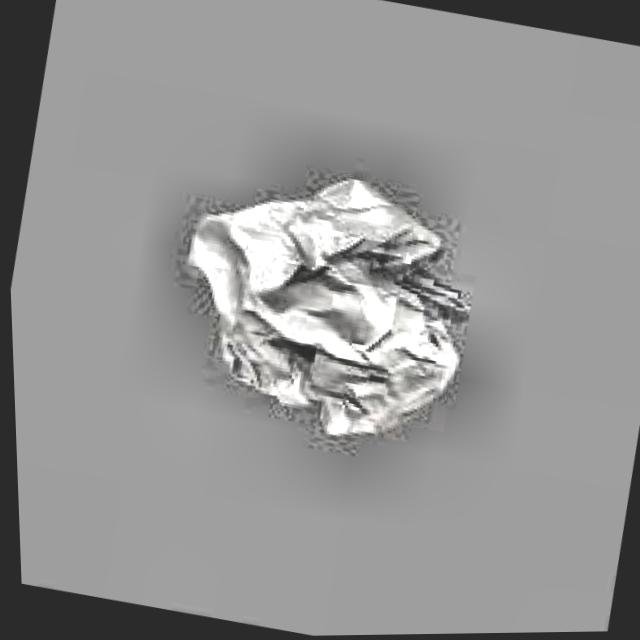Paper: (149, 143, 493, 460)
